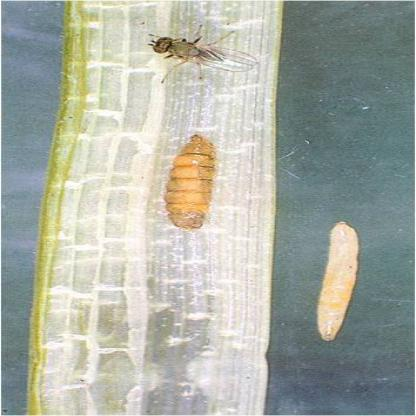whorl-maggot: (302, 214, 386, 354), (154, 128, 224, 236)
